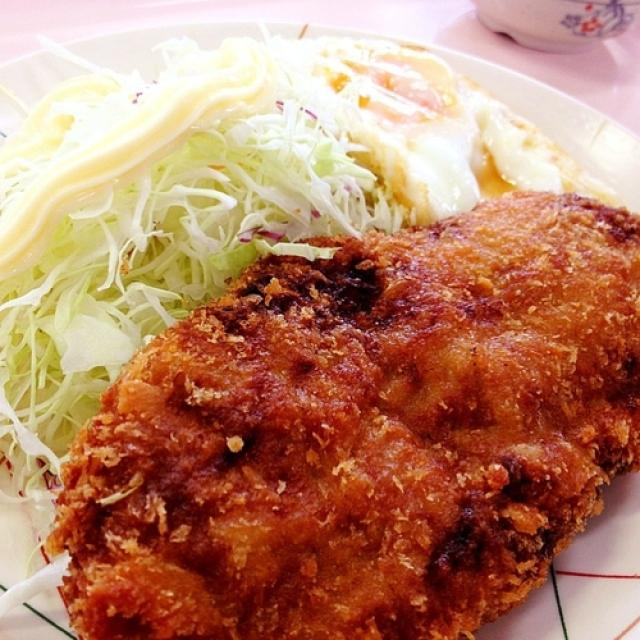炸货点心: (29, 162, 635, 594)
